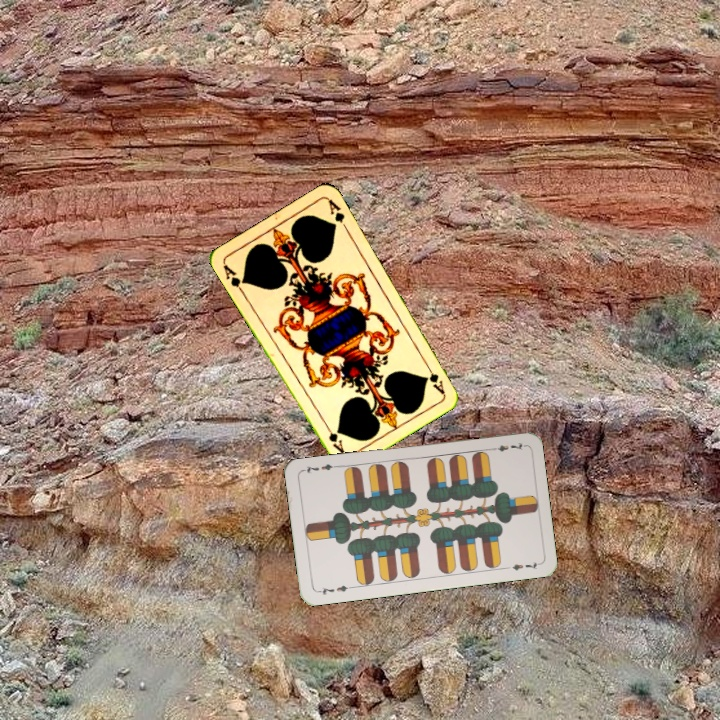E7: (314, 581, 354, 597), (486, 438, 526, 454)
GA: (219, 260, 249, 297), (421, 359, 447, 396)
